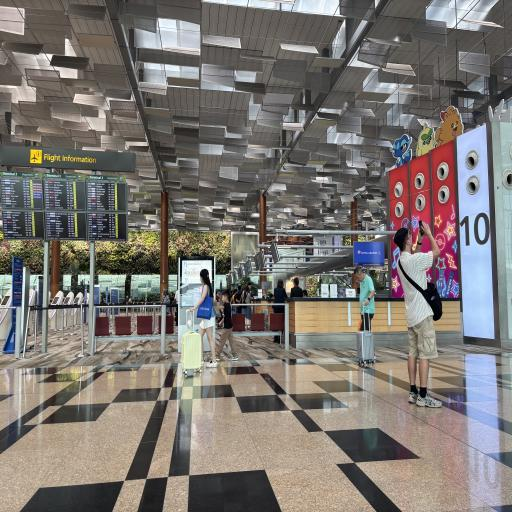person_left: (214, 287, 240, 363)
person_with_luggage_left: (340, 268, 382, 370), (180, 260, 216, 374)
